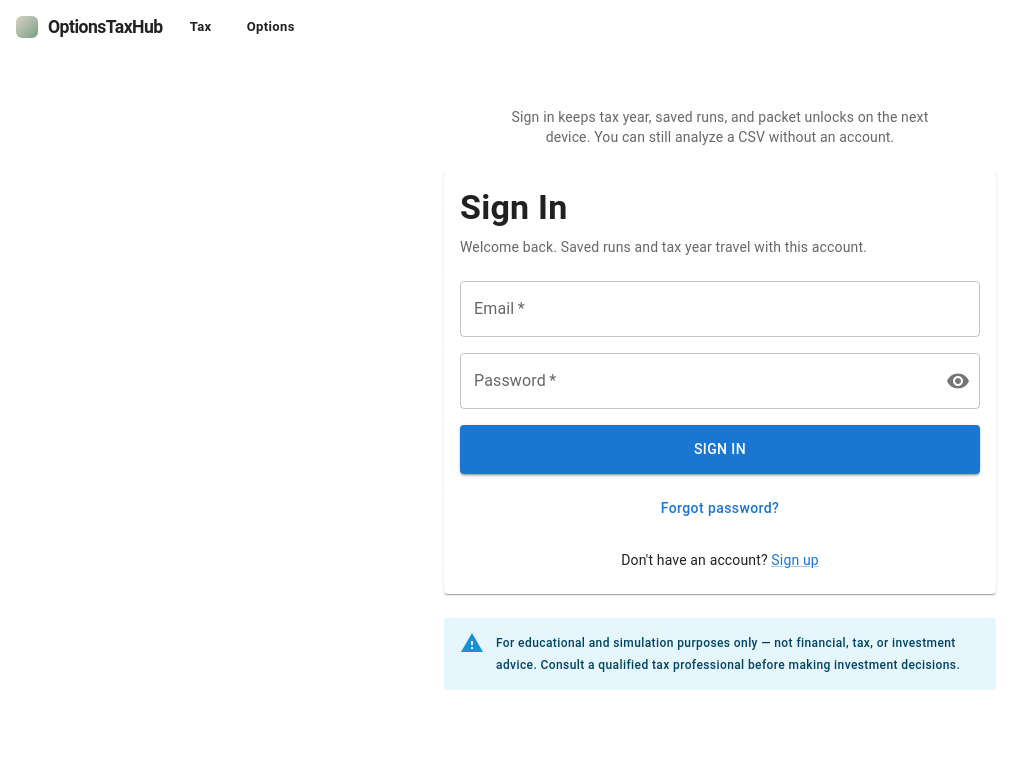
Scenario: Sign In Page › displays generic error message on non-Error failure
The image size is (1014, 779).
Type "bad@example.com" into the field labelled "Email *" at x=720, y=309, box [460,281,980,337]
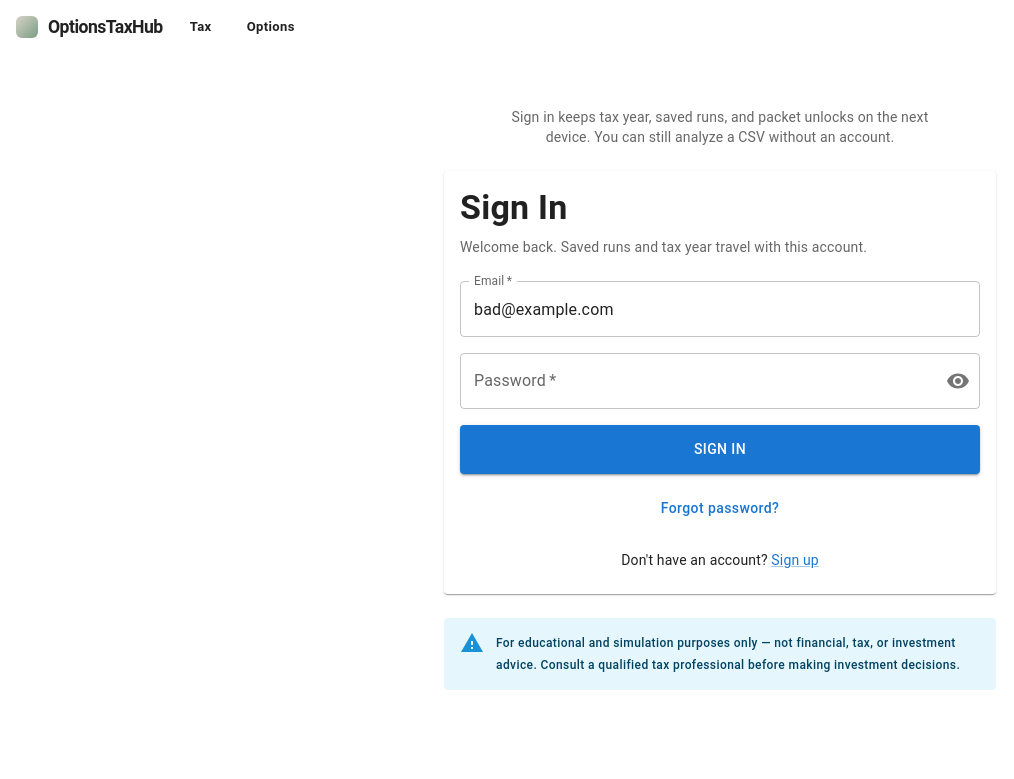
Type "wrong" into the password field labelled "Password *" at x=695, y=381, box [460,353,930,409]
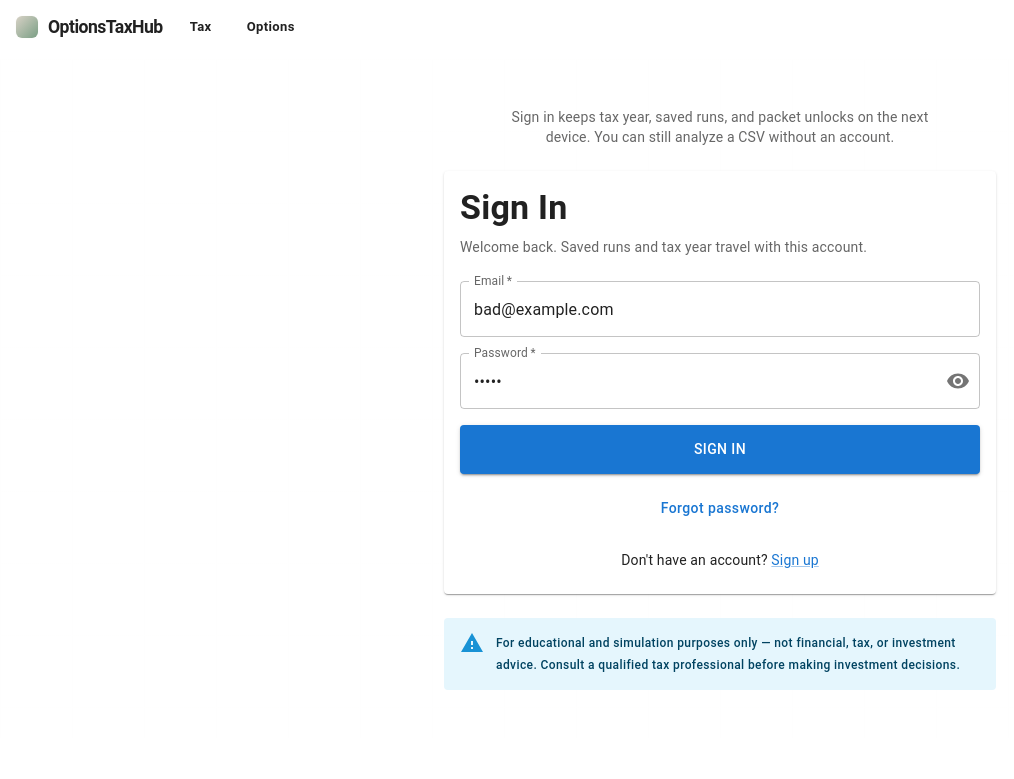
Submit the form, box [460,281,980,526]
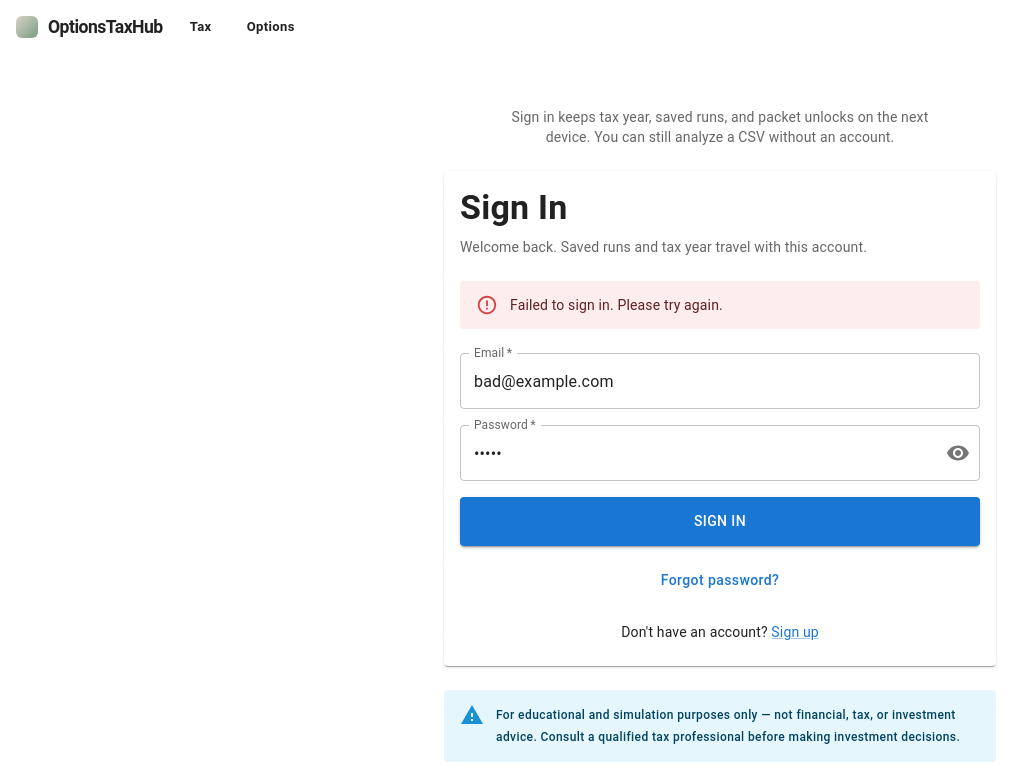
Check: the text "Failed to sign in. Please try again." is shown, box [510,297,723,313]
